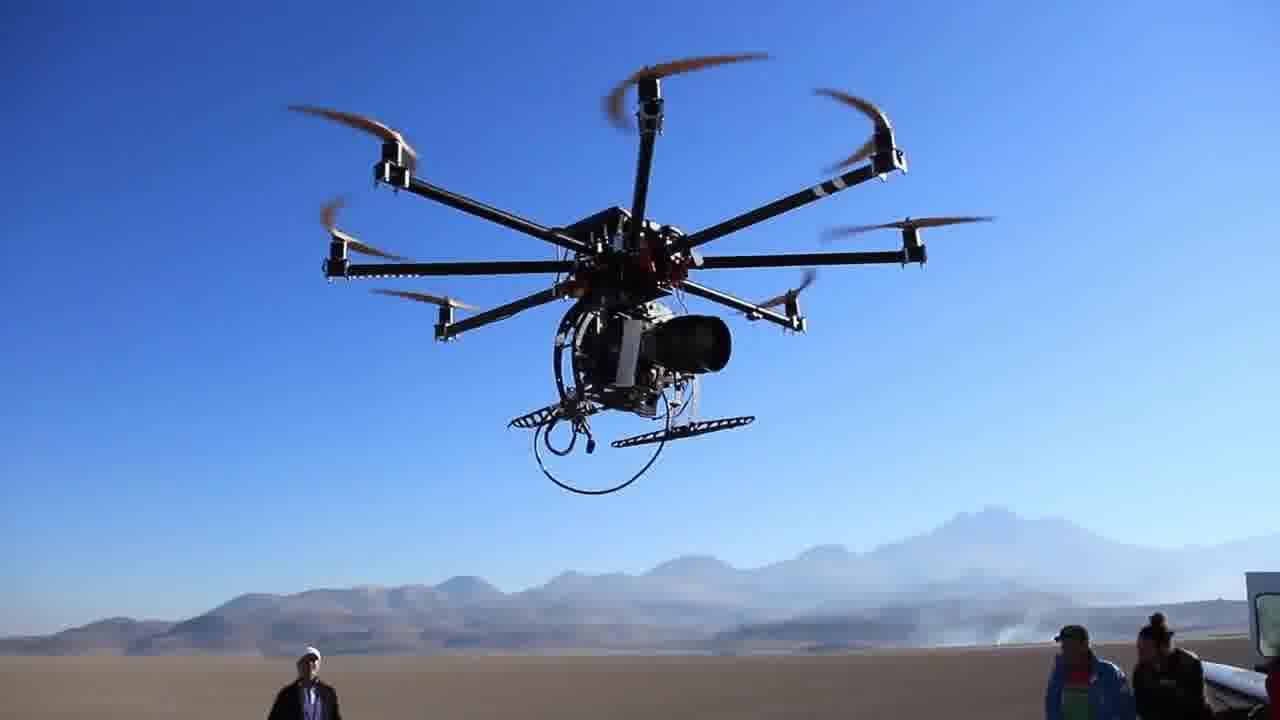drone: (334, 62, 856, 421)
